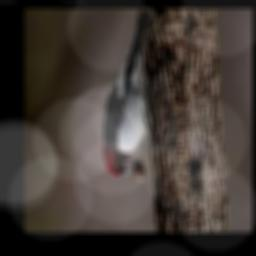Woodpecker: (103, 11, 149, 182)
